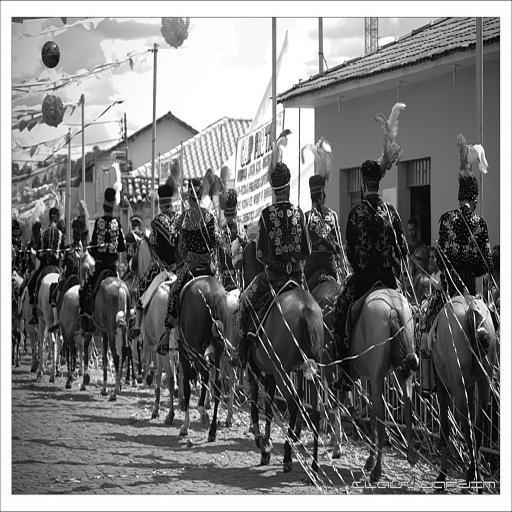horse: (11, 228, 498, 494), (220, 258, 326, 461)
